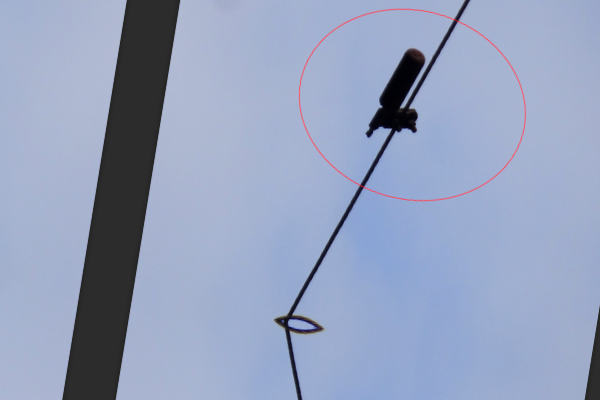damper_defect: (360, 44, 427, 138)
